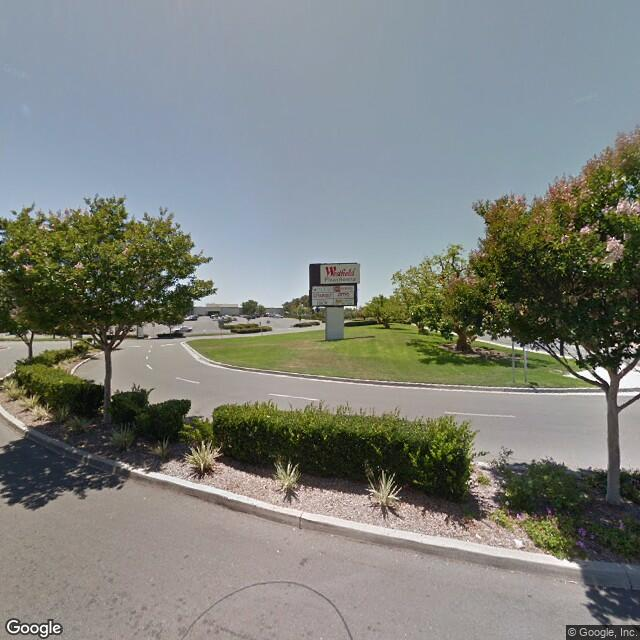litter: (512, 538, 529, 549), (565, 580, 583, 586), (473, 535, 484, 540)
